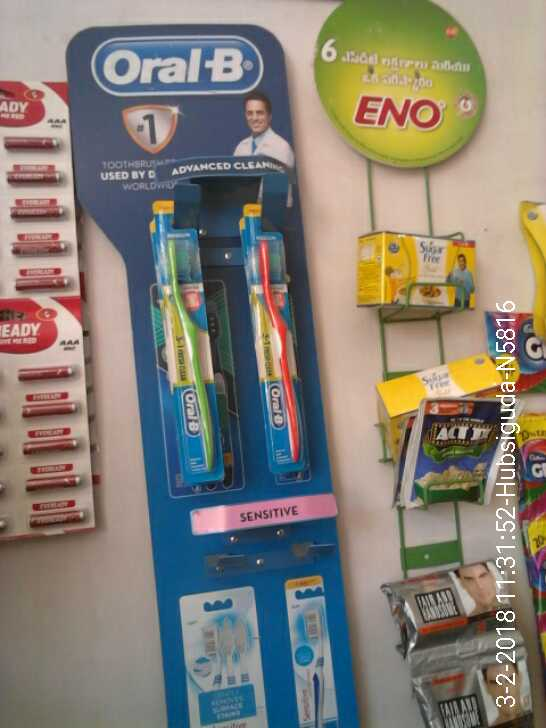oralb: (154, 230, 229, 499), (252, 230, 310, 478)
